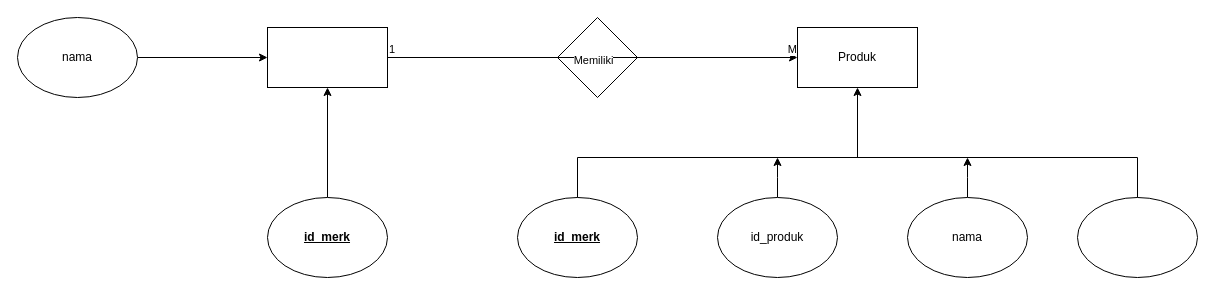
Some shapes in this 1215 by 295 pixel diagram are drawn without their labels. Here are the shapes that lost their labels. From the top down, the centre of each, then its label:
pixel 327 57: Merk
pixel 1137 237: harga
